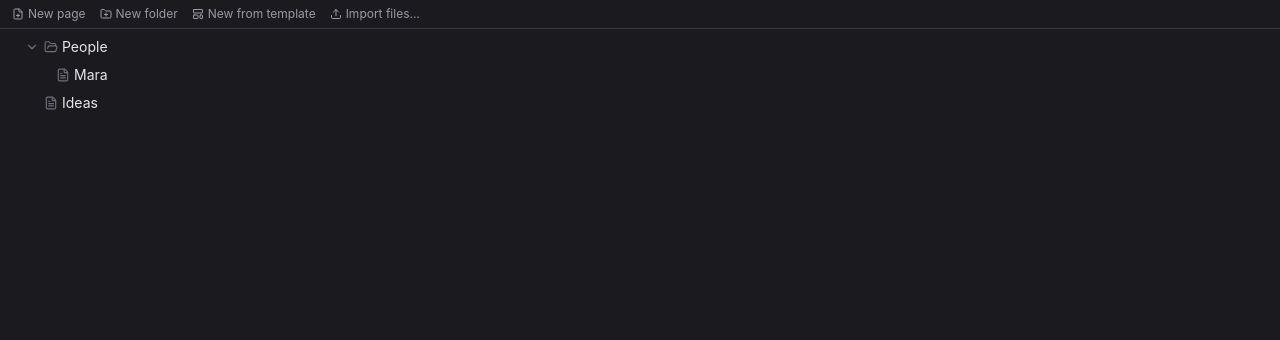
note templates (phase 6) › makes a page from the Character template in the toolbar, opened with its title to type over
This screenshot has width=1280, height=340.
Click the button "New from template".
click(254, 14)  # box [186,4,322,24]
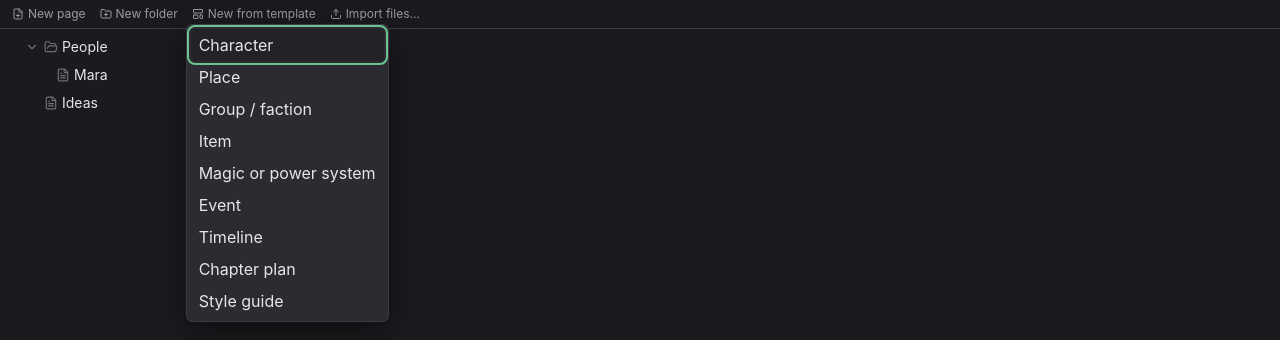
Click the menu item "Character".
click(287, 45)  # box [191,29,384,61]
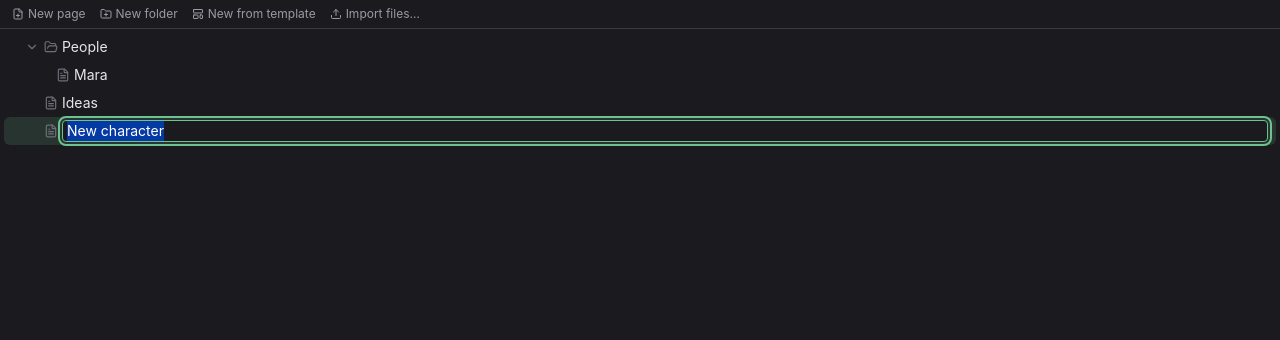
Expected: the field named "Rename" is shown, [62,120,1268,142]
